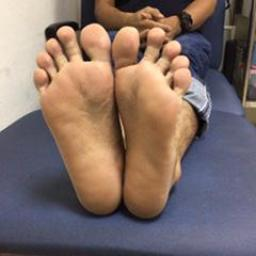Plantar View -Both Feet-: (26, 16, 200, 224)
